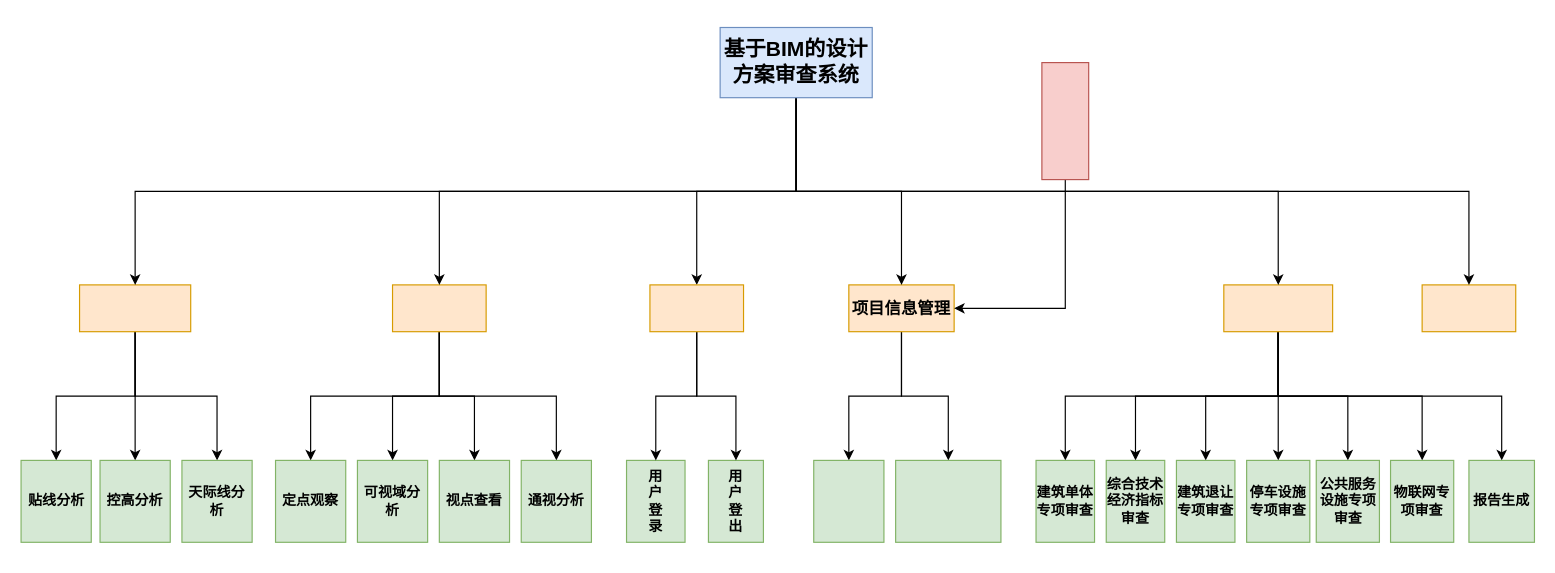
Some shapes in this 1555 by 573 pixel diagram are drawn without their labels. Each missing label, with the centre of its shape:
"BIM指标审查" belongs at point 1278,308.
"CIM技术审查" belongs at point 134,308.
"其 他 系 统 输 入" belongs at point 1065,120.
"系统用户" belongs at point 696,308.
"规则库管理" belongs at point 1468,308.
"辅助分析" belongs at point 438,308.
"项目信息" belongs at point 848,500.
"项目模型导入" belongs at point 947,500.
